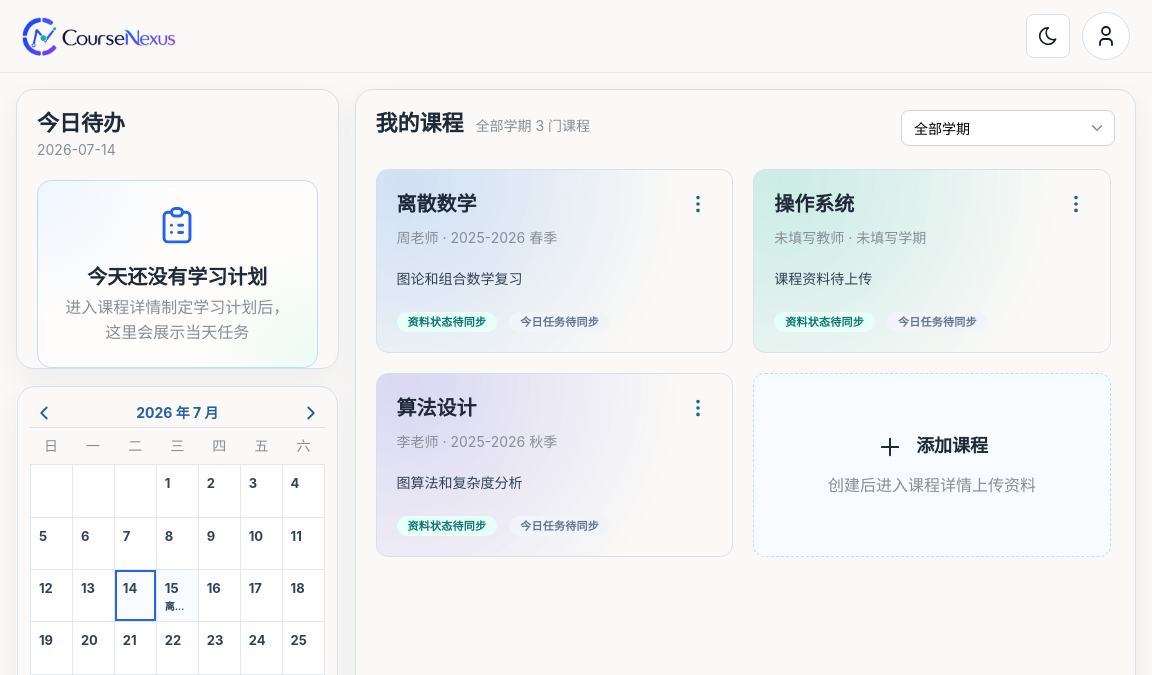
Test: HomePage › filters courses by the selected term
expect the link "离散数学" is shown: met, box left=396, top=192, right=476, bottom=216
Step 1. Click the dropdown named "选择学期" → click(1008, 128), box left=901, top=110, right=1115, bottom=146
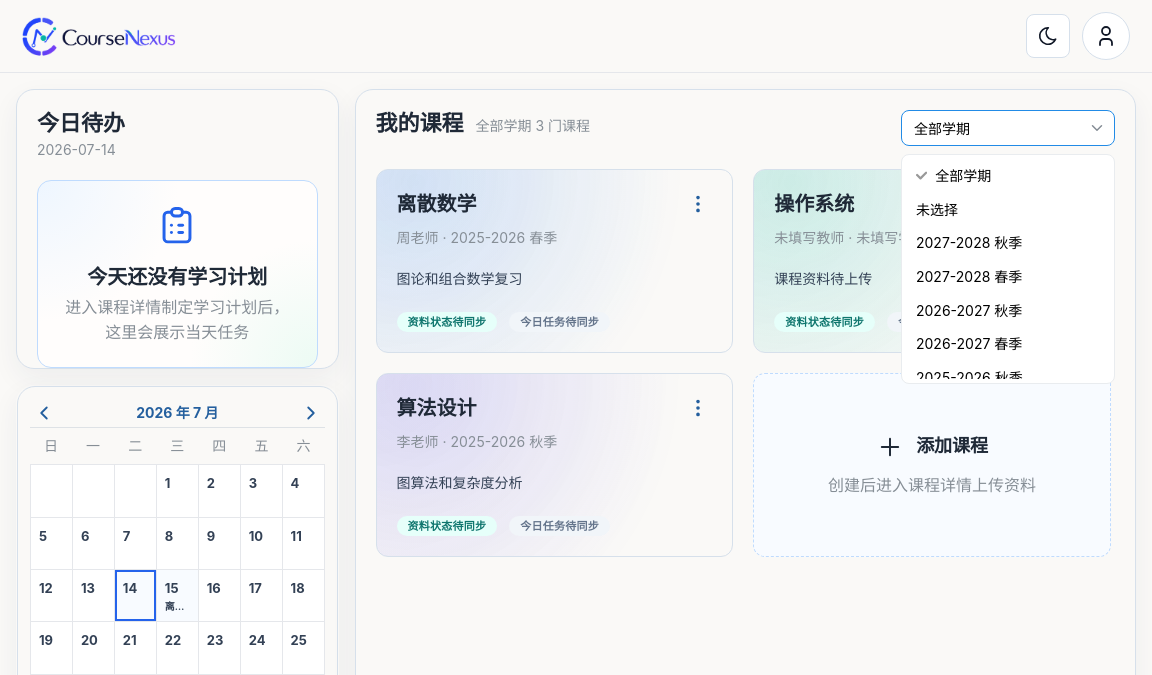
Step 2. Click the option "2025-2026 秋季" → click(969, 378), box left=916, top=369, right=1023, bottom=386
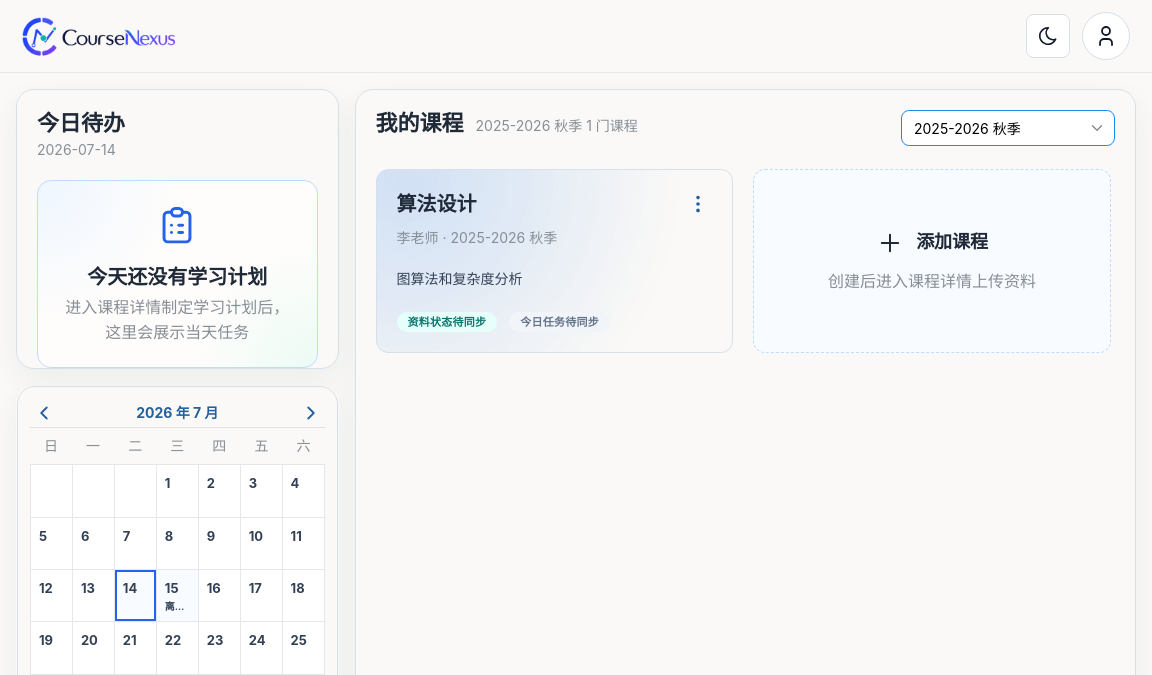
expect the link "算法设计" is shown: met, box left=396, top=192, right=476, bottom=216
expect the text "2025-2026 秋季 1 门课程" is shown: met, box left=476, top=116, right=638, bottom=136
expect the link "操作系统" is gone: met
